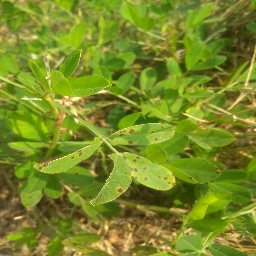GroundNut_Leaf: (33, 136, 103, 177), (122, 152, 179, 196), (106, 122, 176, 148), (184, 129, 237, 148), (210, 182, 253, 205), (57, 47, 82, 83), (190, 217, 227, 235), (138, 63, 157, 97), (67, 231, 105, 244)
